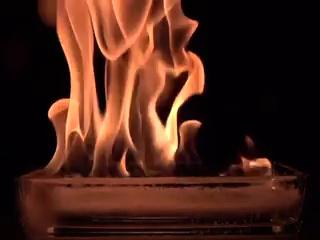Fire: (49, 1, 223, 176)
